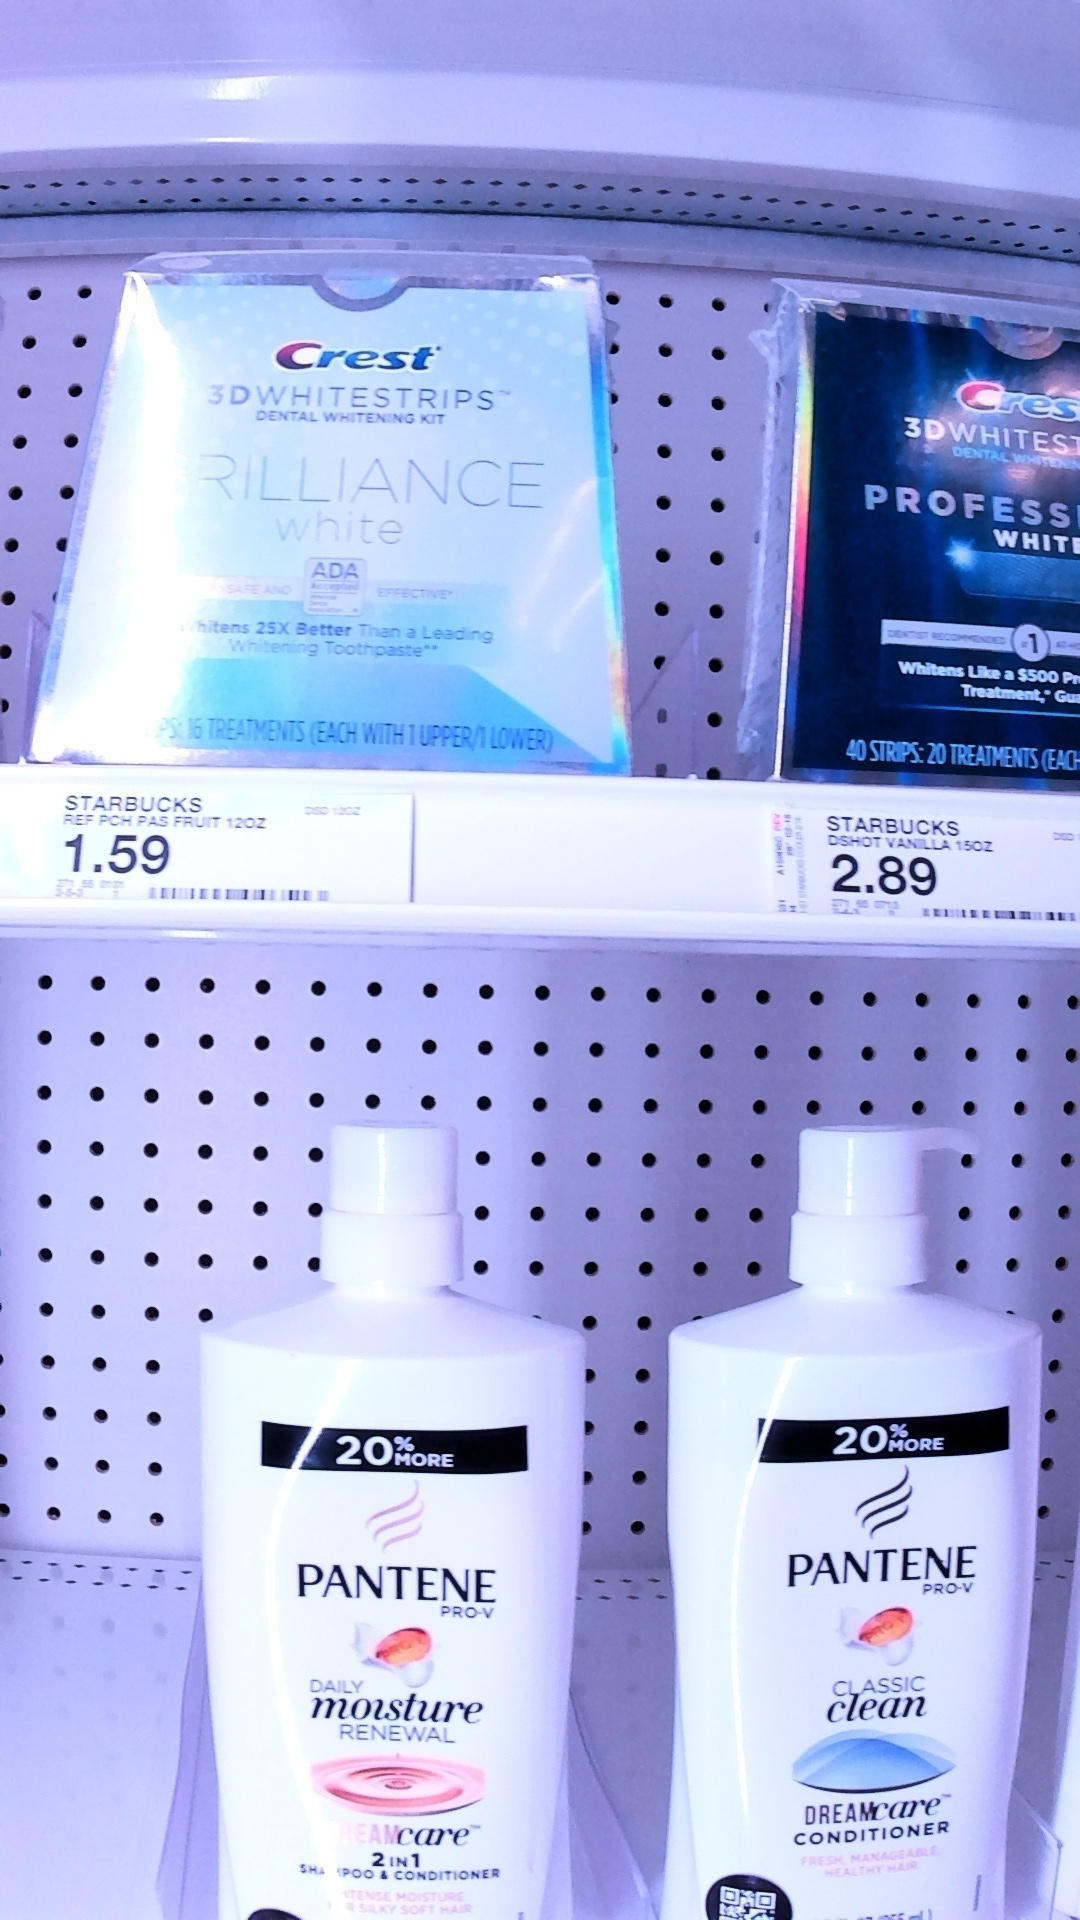ptag: (38, 771, 426, 935), (760, 789, 1073, 955)
